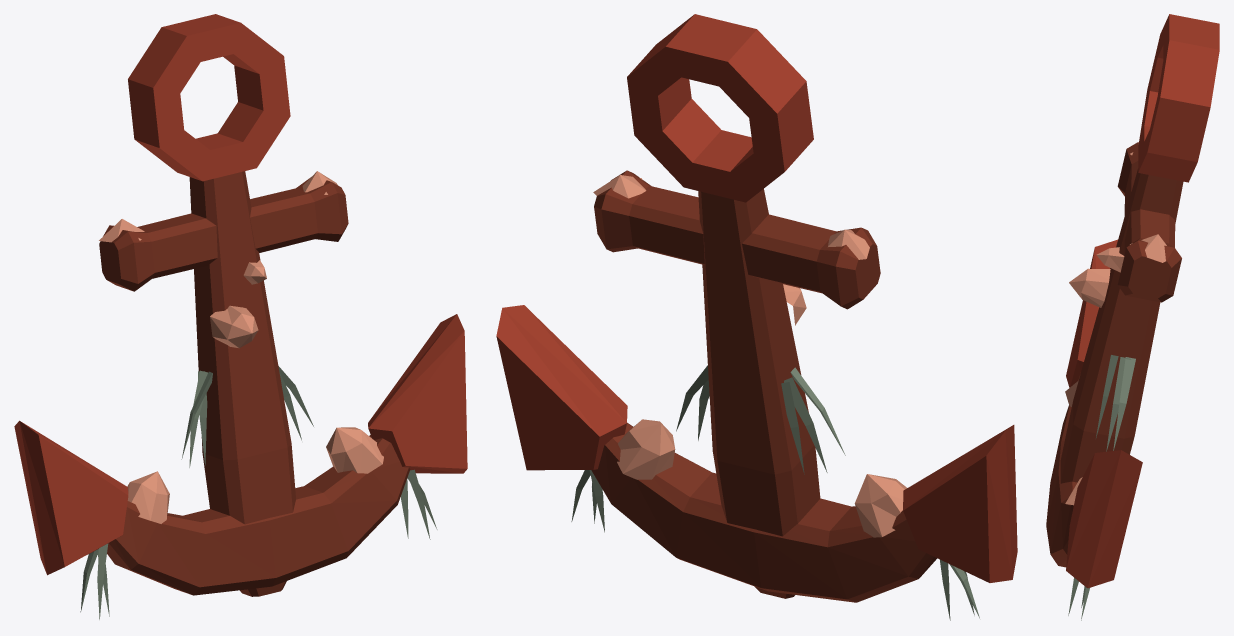
Rendered from admiralty-anchor-bd6882.glb.
3 views of the same model, side by side, from view 1: azimuth 30°, elevation 25°; view 2: azimuth 150°, elevation 25°; view 3: azimuth 270°, elevation 25° (orthographic). The views are drawn at different scales.
Parts seen in each view (by area): view 1: anchor-body, weed-shank-l-mesh, weed-arm-l-mesh, weed-arm-r-mesh, weed-shank-r-mesh; view 2: anchor-body, weed-shank-l-mesh, weed-shank-r-mesh, weed-arm-r-mesh; view 3: anchor-body, weed-shank-r-mesh, weed-arm-r-mesh.
Part boxes in pixels (x1=…): anchor-body: x1=14, y1=14, x2=467, y2=596; weed-shank-l-mesh: x1=181, y1=370, x2=212, y2=467; weed-arm-l-mesh: x1=80, y1=543, x2=109, y2=619; weed-arm-r-mesh: x1=400, y1=469, x2=437, y2=539; weed-shank-r-mesh: x1=278, y1=366, x2=313, y2=440; anchor-body: x1=496, y1=14, x2=1017, y2=602; weed-shank-l-mesh: x1=781, y1=367, x2=845, y2=474; weed-shank-r-mesh: x1=676, y1=365, x2=709, y2=440; weed-arm-r-mesh: x1=571, y1=470, x2=604, y2=532; anchor-body: x1=1046, y1=14, x2=1219, y2=588; weed-shank-r-mesh: x1=1096, y1=355, x2=1135, y2=451; weed-arm-r-mesh: x1=1068, y1=577, x2=1089, y2=620.
Size of the model in its own units: 2.04 by 2.36 by 0.7072.
